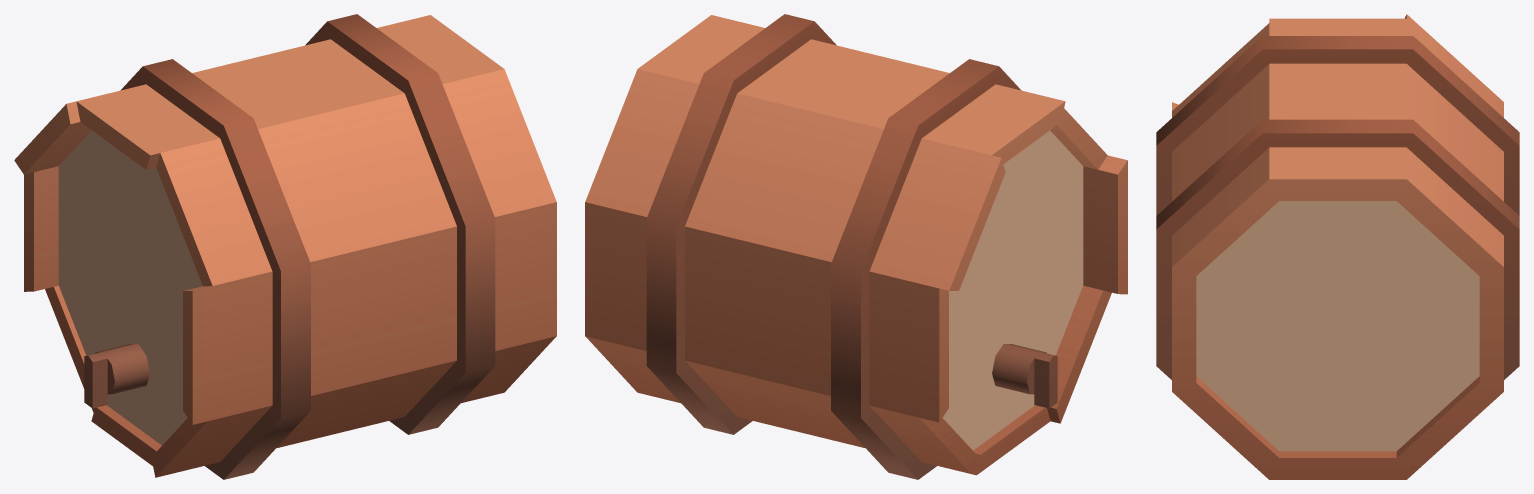
Rendered from barrel.fbx.
3 renders of one model, left to right at view 1: azimuth 30°, elevation 25°; view 2: azimuth 150°, elevation 25°; view 3: azimuth 270°, elevation 25°, orthographic. The views are drawn at different scales.
Visible parts, largest first — view 1: barrel; view 2: barrel; view 3: barrel.
Part boxes in pixels (x1,y1,x2,y2): barrel: (14,14,556,479); barrel: (585,14,1127,479); barrel: (1156,14,1519,479).
Bounding box in the file's own units: 0.19 × 0.1697 × 0.1697.
